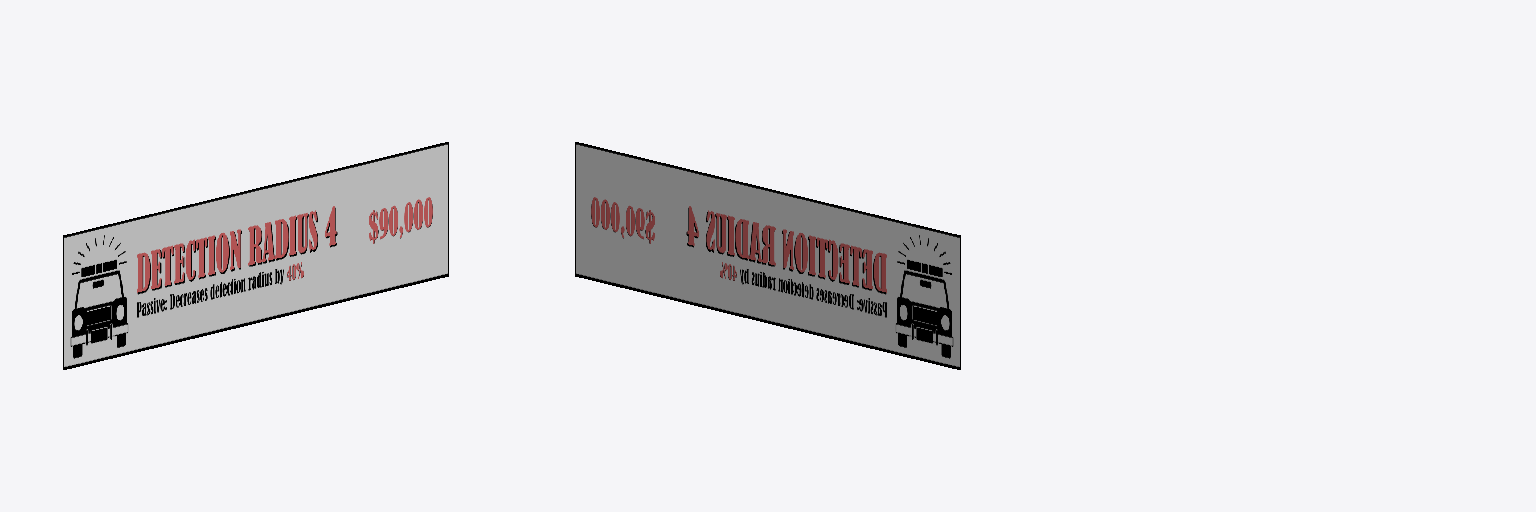
3 views of the same model, side by side, from view 1: azimuth 30°, elevation 25°; view 2: azimuth 150°, elevation 25°; view 3: azimuth 270°, elevation 25° (orthographic).
Parts seen in each view (by area): view 1: Plane.004; view 2: Plane.004; view 3: none.
Part boxes in pixels (x1,y1,x2,y2): Plane.004: (63, 142, 448, 369); Plane.004: (575, 142, 960, 369).
Bounding box in the file's own units: 0.9 × 0.3 × 0.
1 materials, 1 textured.